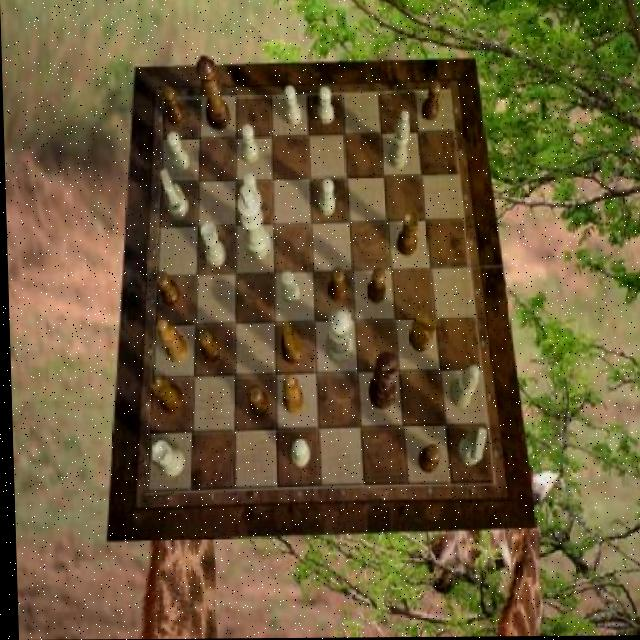bishop: (153, 317, 185, 363), (280, 374, 302, 415)
black-bishop: (363, 351, 397, 410)
black-king: (406, 311, 435, 354), (277, 321, 301, 364)
black-knight: (161, 86, 185, 127), (155, 271, 180, 308), (421, 81, 441, 122), (194, 329, 217, 363), (364, 269, 384, 305), (413, 446, 437, 475), (246, 386, 267, 417), (327, 268, 345, 304)
black-pawn: (196, 55, 231, 130)
black-queen: (149, 376, 181, 416), (394, 211, 419, 257)
black-rook: (386, 111, 410, 170), (446, 365, 477, 409)
white-bishop: (235, 185, 269, 259)
white-king: (158, 168, 186, 219), (454, 428, 485, 467)
white-knight: (165, 133, 189, 173), (240, 125, 258, 165), (282, 86, 300, 126), (242, 174, 260, 212), (316, 87, 334, 125), (317, 180, 335, 217), (280, 272, 298, 306), (288, 438, 306, 467)
white-pawn: (322, 308, 351, 364)
white-queen: (198, 222, 225, 268), (149, 441, 182, 478)
